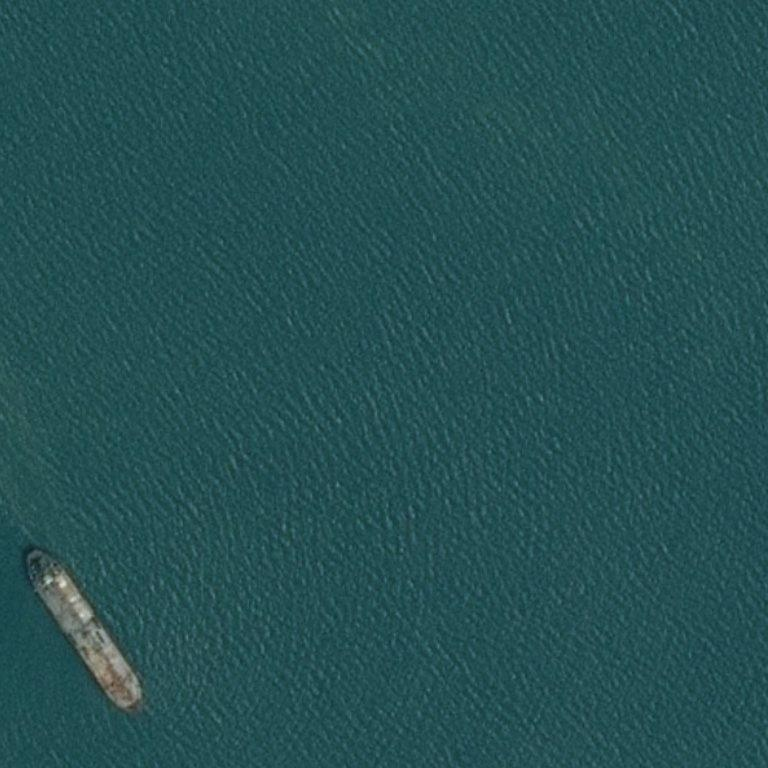ship: (0, 544, 33, 720), (138, 686, 145, 705), (115, 701, 127, 710), (25, 551, 39, 557)
